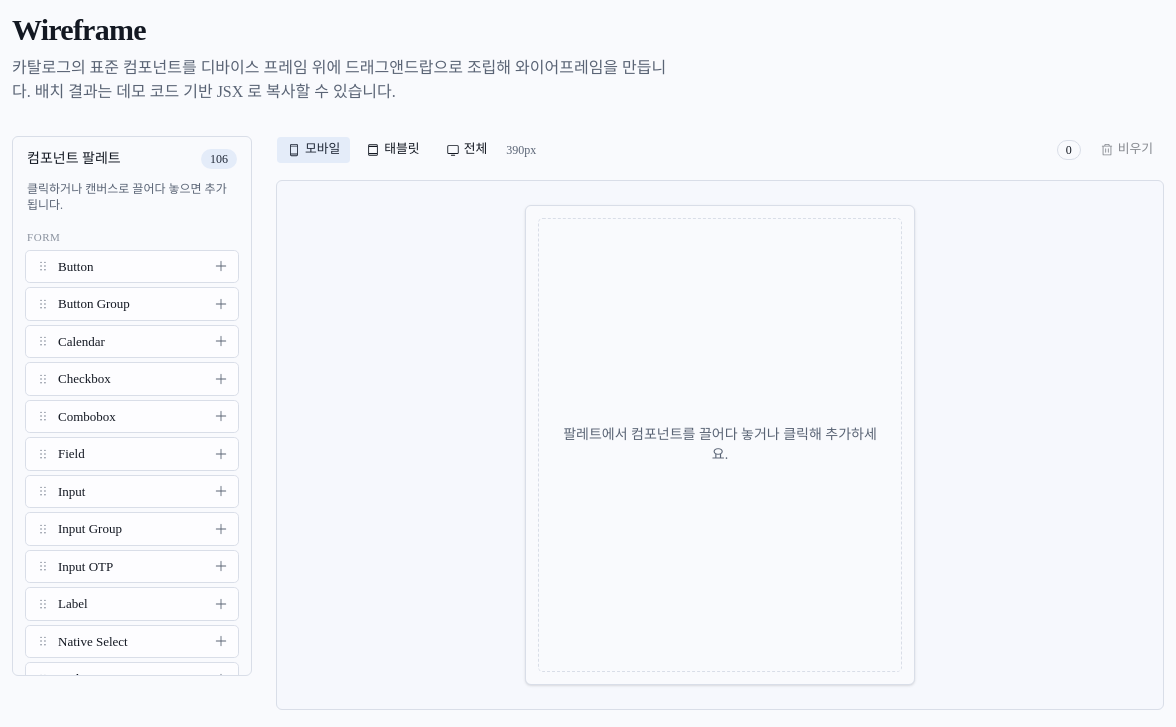
WireframePage › removes an item and clears the canvas (#17)
Click the button "Button". click: point(132, 266)
box: [25,250,239,283]
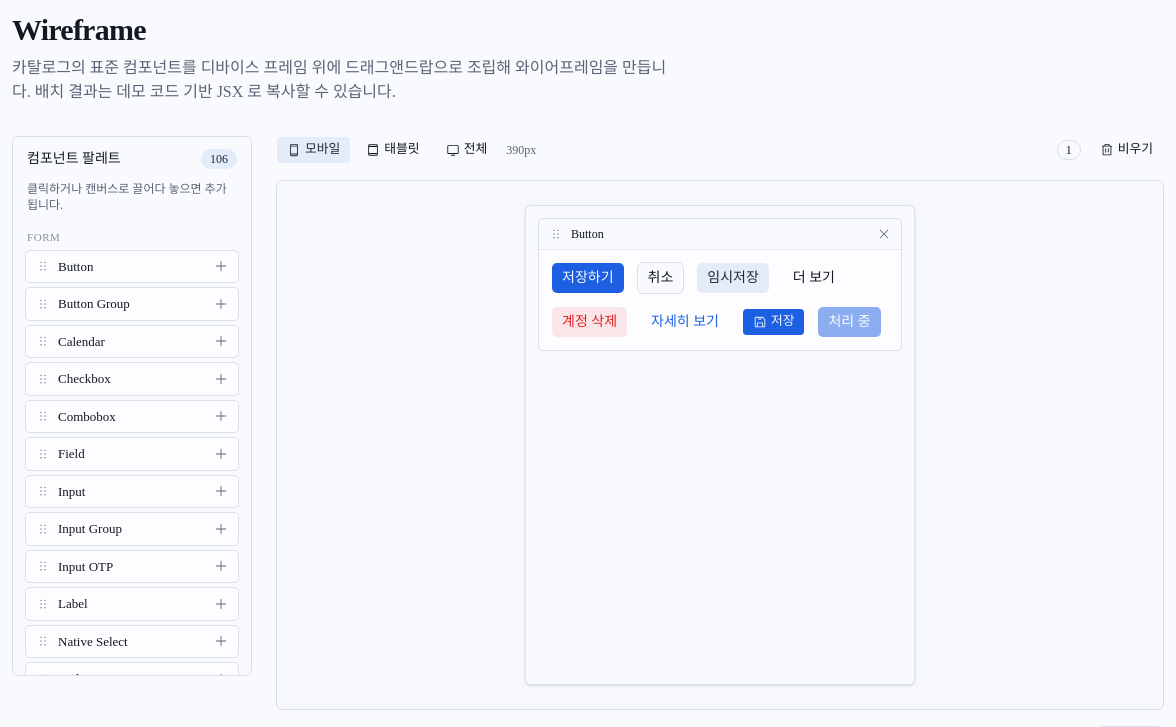
Click the button named "Button 제거". click: point(884, 234)
box: [873,223,895,245]
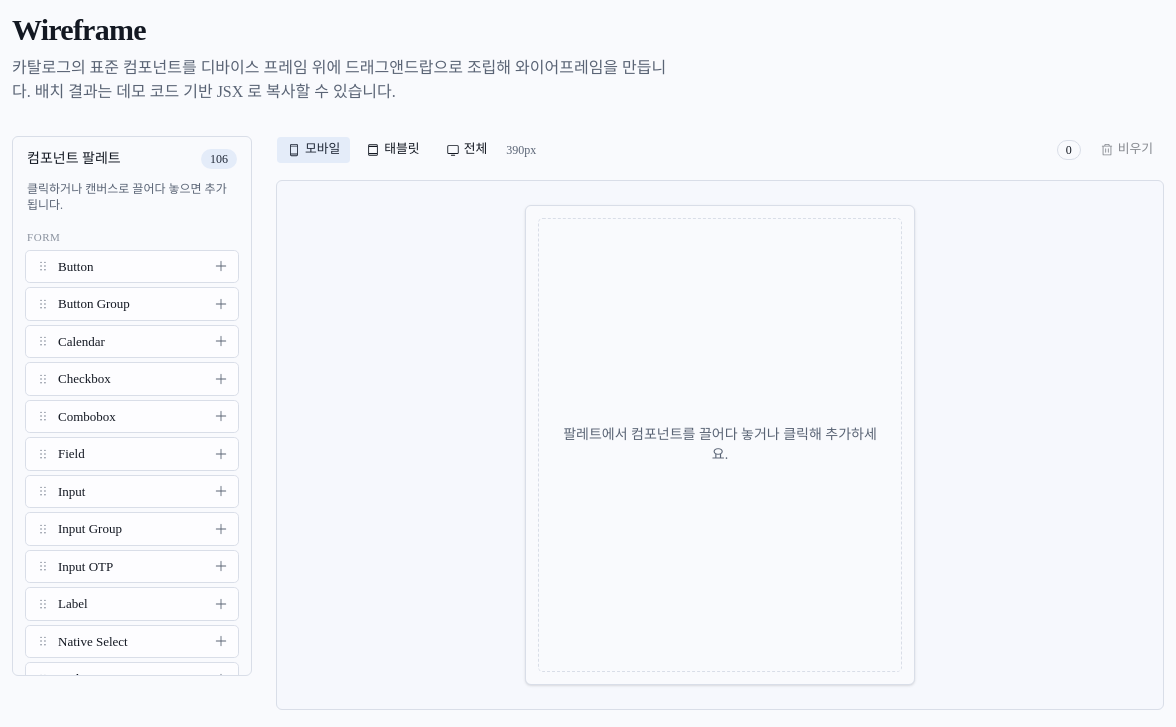
expect the text "팔레트에서 컴포넌트를 끌어다 놓거나 클릭해 추가하세요." is shown: met, box [538,218,902,672]
